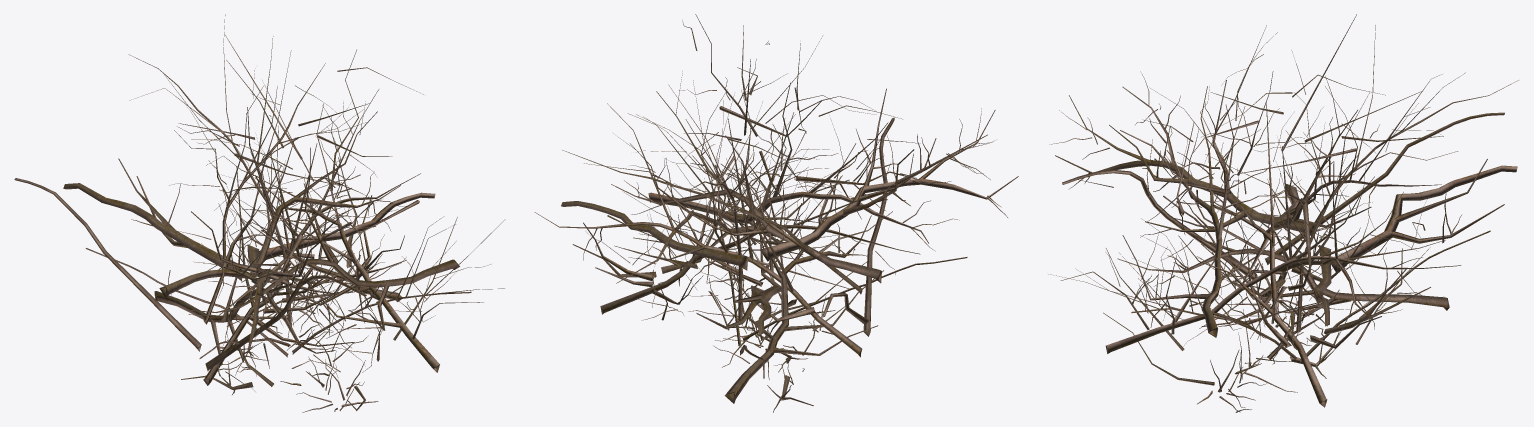
File: maple-detached-limbs.gltf
3 renders of one model, left to right at view 1: azimuth 30°, elevation 25°; view 2: azimuth 150°, elevation 25°; view 3: azimuth 270°, elevation 25°, orthographic. The views are drawn at different scales.
Parts seen in each view (by area): view 1: Maple_detached_limb_3, Maple_detached_limb_4, Maple_detached_limb_7, Maple_detached_limb_5, Maple_detached_limb_2, Maple_detached_limb_1, Maple_detached_limb_6, Maple_detached_limb_8; view 2: Maple_detached_limb_4, Maple_detached_limb_3, Maple_detached_limb_5, Maple_detached_limb_2, Maple_detached_limb_1, Maple_detached_limb_6, Maple_detached_limb_7, Maple_detached_limb_8; view 3: Maple_detached_limb_4, Maple_detached_limb_7, Maple_detached_limb_3, Maple_detached_limb_1, Maple_detached_limb_2, Maple_detached_limb_6, Maple_detached_limb_5, Maple_detached_limb_8.
Boxes of the visible parts, <box> form: Maple_detached_limb_3: <box>14,36,420,385</box>; Maple_detached_limb_4: <box>63,158,435,376</box>; Maple_detached_limb_7: <box>177,35,439,412</box>; Maple_detached_limb_5: <box>159,101,406,368</box>; Maple_detached_limb_2: <box>188,147,459,372</box>; Maple_detached_limb_1: <box>85,14,505,410</box>; Maple_detached_limb_6: <box>154,67,423,391</box>; Maple_detached_limb_8: <box>188,138,404,348</box>; Maple_detached_limb_4: <box>561,88,1018,334</box>; Maple_detached_limb_3: <box>534,89,894,357</box>; Maple_detached_limb_5: <box>611,71,881,333</box>; Maple_detached_limb_2: <box>572,82,935,320</box>; Maple_detached_limb_1: <box>585,80,967,378</box>; Maple_detached_limb_6: <box>682,20,892,403</box>; Maple_detached_limb_7: <box>613,14,875,412</box>; Maple_detached_limb_8: <box>600,36,920,314</box>; Maple_detached_limb_4: <box>1049,71,1517,326</box>; Maple_detached_limb_7: <box>1105,14,1461,412</box>; Maple_detached_limb_3: <box>1062,76,1504,337</box>; Maple_detached_limb_1: <box>1048,25,1518,385</box>; Maple_detached_limb_2: <box>1122,86,1443,348</box>; Maple_detached_limb_6: <box>1117,54,1449,352</box>; Maple_detached_limb_5: <box>1183,110,1383,359</box>; Maple_detached_limb_8: <box>1142,87,1425,407</box>.
Bounding box in the file's own units: 528 × 516 × 595.
Materials: 1 (1 with a texture image).
